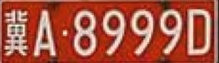A: (34, 10, 56, 56)
